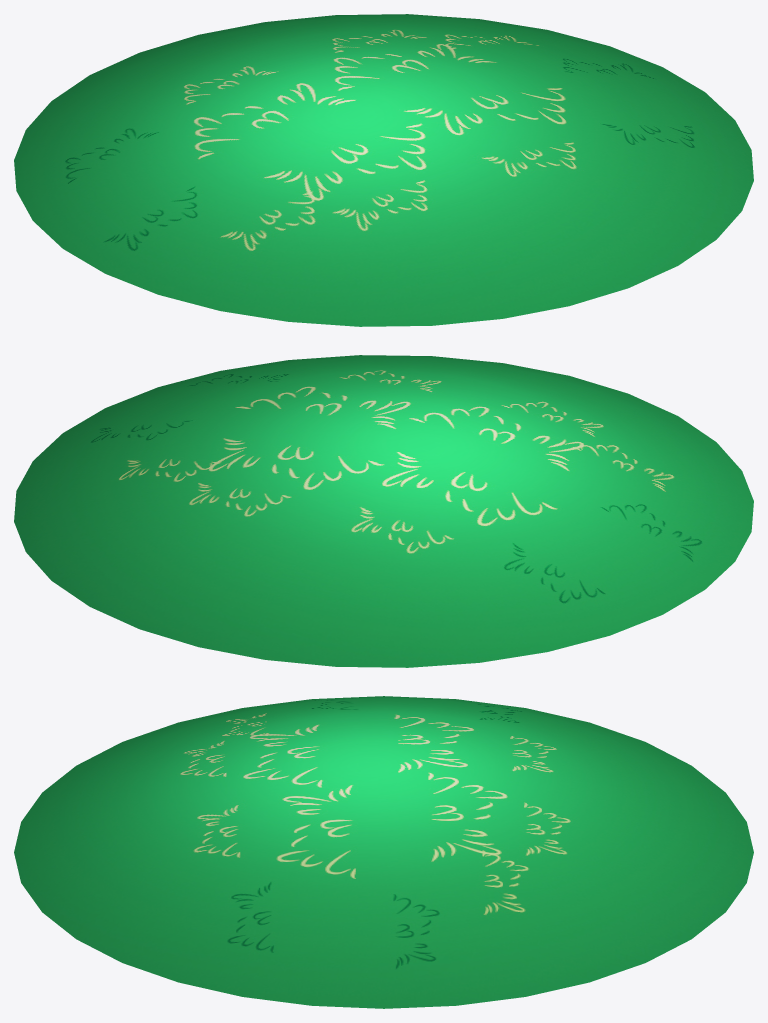
The model's file is pasto.FBX.
3 renders of one model, top to bottom at view 1: azimuth 30°, elevation 25°; view 2: azimuth 150°, elevation 25°; view 3: azimuth 270°, elevation 25°, orthographic.
Visible parts, largest first — view 1: Sphere001; view 2: Sphere001; view 3: Sphere001.
Boxes of the visible parts, bbox=[...] form: Sphere001: bbox=[14, 14, 753, 326]; Sphere001: bbox=[14, 355, 753, 667]; Sphere001: bbox=[14, 696, 753, 1008].
Bounding box in the file's own units: 74.29 × 7.9 × 74.29.
1 material, 1 textured.
